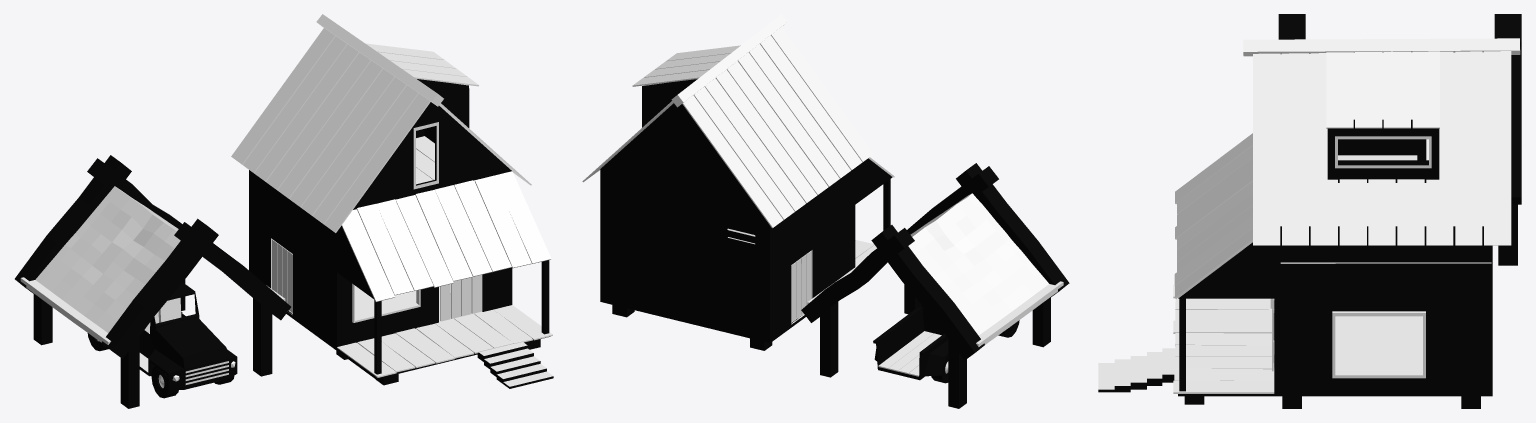
File: NoCcabin.fbx
The picture shows the model from 3 angles, left to right: view 1: azimuth 30°, elevation 25°; view 2: azimuth 150°, elevation 25°; view 3: azimuth 270°, elevation 25°; orthographic projection. The views are drawn at different scales.
Visible parts, largest first — view 1: Cube.001, Cube.002, Cylinder.002, Cube.006, Cube.003; view 2: Cube.001, Cube.002, Cylinder.002, Cube.003; view 3: Cube.001, Cube.002.
Boxes of the visible parts, x1,y1,x2,y2 form: Cube.001: (231, 14, 553, 388); Cube.002: (15, 155, 290, 408); Cylinder.002: (87, 282, 237, 398); Cube.006: (440, 275, 481, 321); Cube.003: (272, 239, 292, 312); Cube.001: (582, 14, 894, 350); Cube.002: (801, 163, 1069, 408); Cylinder.002: (873, 305, 1019, 383); Cube.003: (791, 251, 811, 321); Cube.001: (1098, 38, 1520, 408); Cube.002: (1278, 14, 1521, 265).
Size of the model in its own units: 14.67 by 8.86 by 10.58.
Materials: 2 (2 with a texture image).
